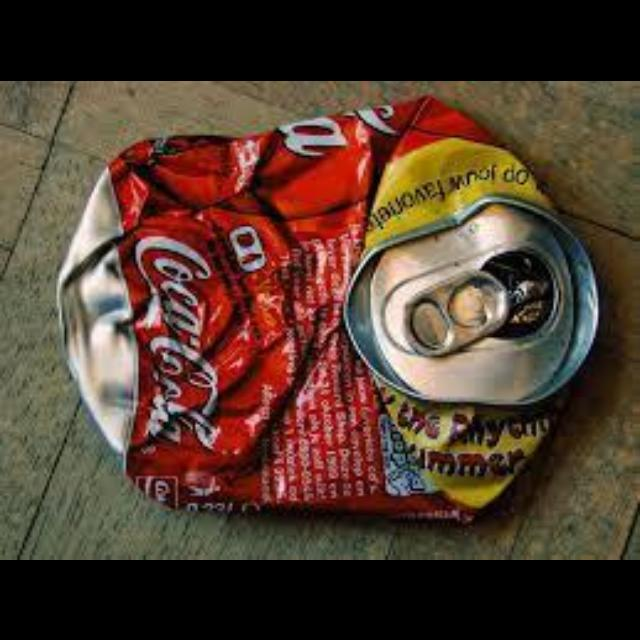aba de lata: (400, 268, 510, 356)
lata: (57, 90, 599, 524)
